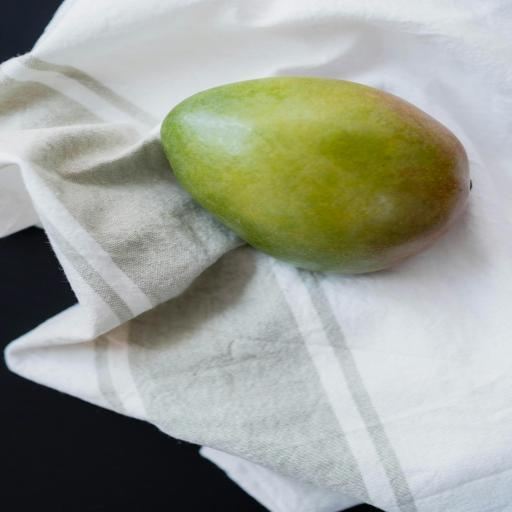mango: (161, 77, 469, 273)
